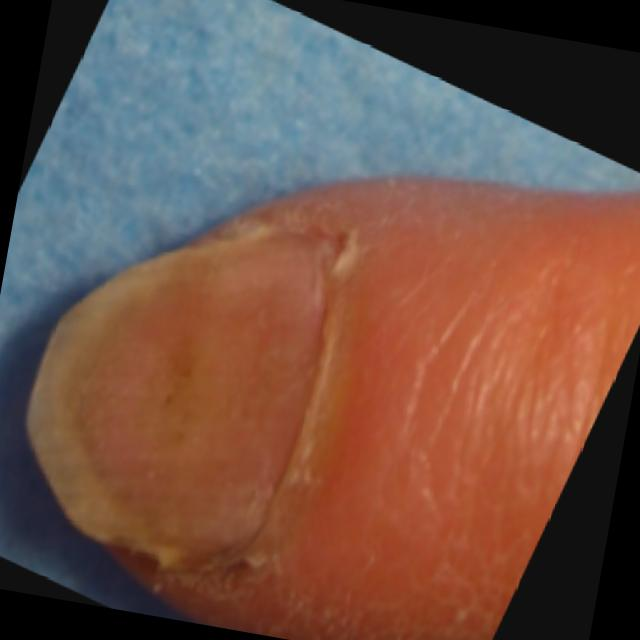Nail: (25, 221, 331, 561)
